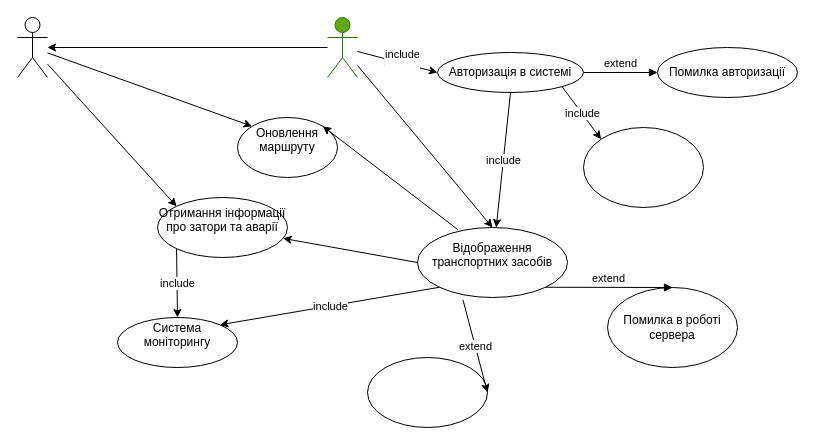
Some shapes in this 815 by 446 pixel diagram are drawn without their labels. Each missing label, with the centre of its shape:
"Водії" goes at (32,47).
"Двофакторна автентифікація" goes at (643,167).
"Диспетчер" goes at (342,47).
"Оцінка проблем на маршруті" goes at (427,392).
